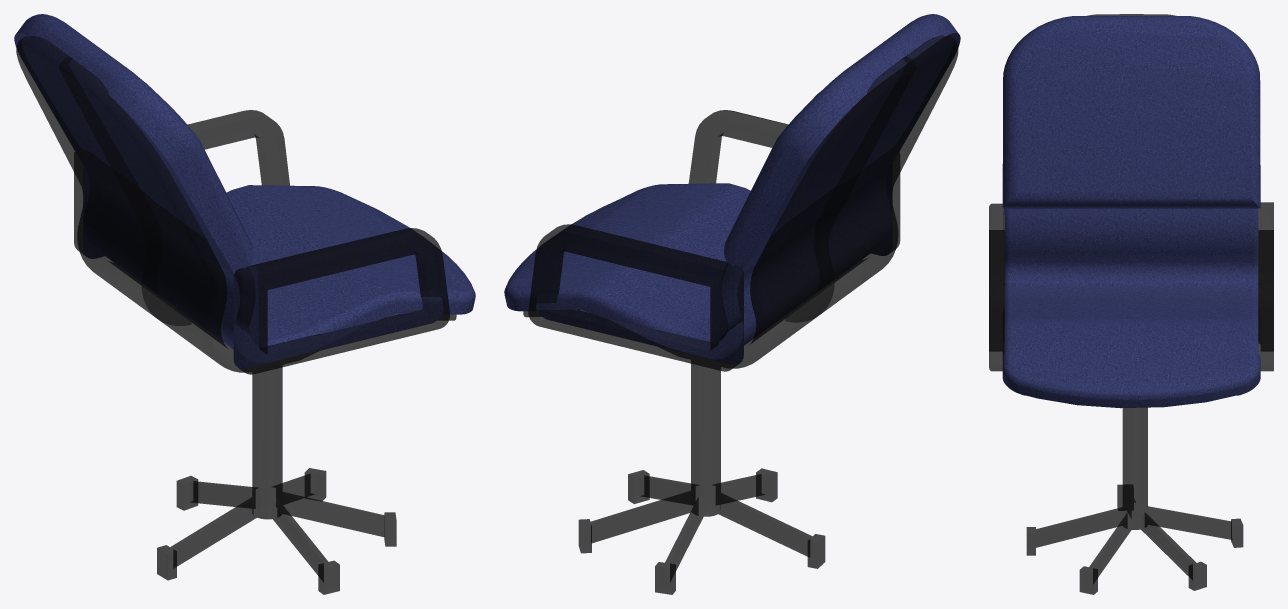
The model's file is KursiRapat.glb.
3 views of the same model, side by side, from view 1: azimuth 30°, elevation 25°; view 2: azimuth 150°, elevation 25°; view 3: azimuth 270°, elevation 25° (orthographic). The views are drawn at different scales.
Parts seen in each view (by area): view 1: Cube.001, Cube, Cylinder; view 2: Cube.001, Cube, Cylinder; view 3: Cube.001, Cylinder.
Boxes of the visible parts, x1,y1,x2,y2 form: Cube.001: (14, 14, 475, 374); Cube: (16, 35, 456, 372); Cylinder: (157, 365, 396, 594); Cube.001: (504, 14, 960, 371); Cube: (523, 35, 958, 368); Cylinder: (578, 360, 825, 594); Cube.001: (989, 16, 1273, 408); Cylinder: (1026, 407, 1243, 594).
Bounding box in the file's own units: 3.96 × 5.54 × 3.11.
2 materials, 1 textured.
